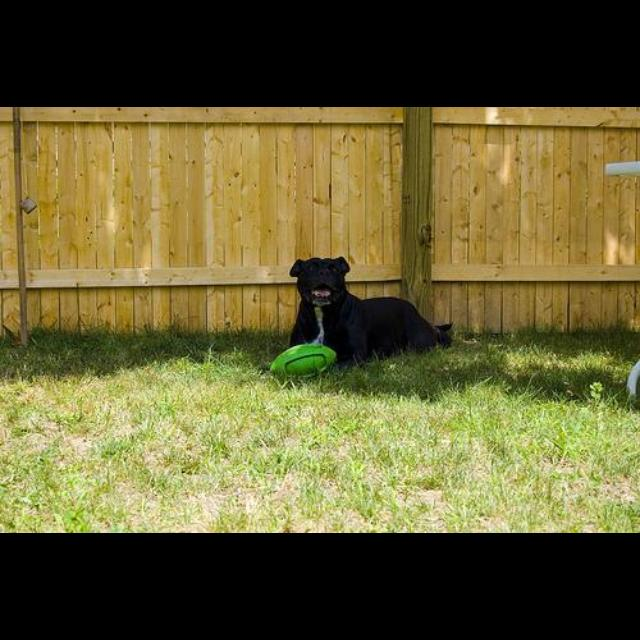staffford: (288, 257, 454, 372)
